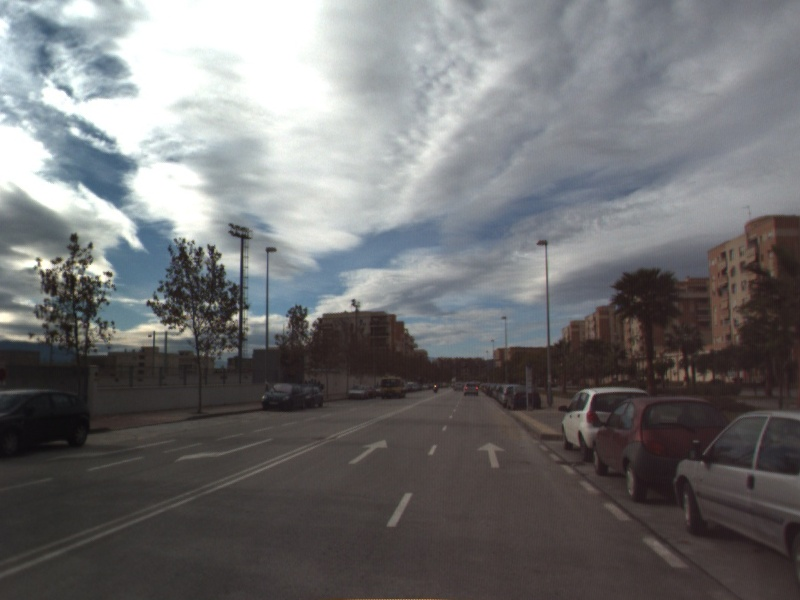STRAIGHT: (346, 438, 390, 466), (475, 440, 508, 470)
